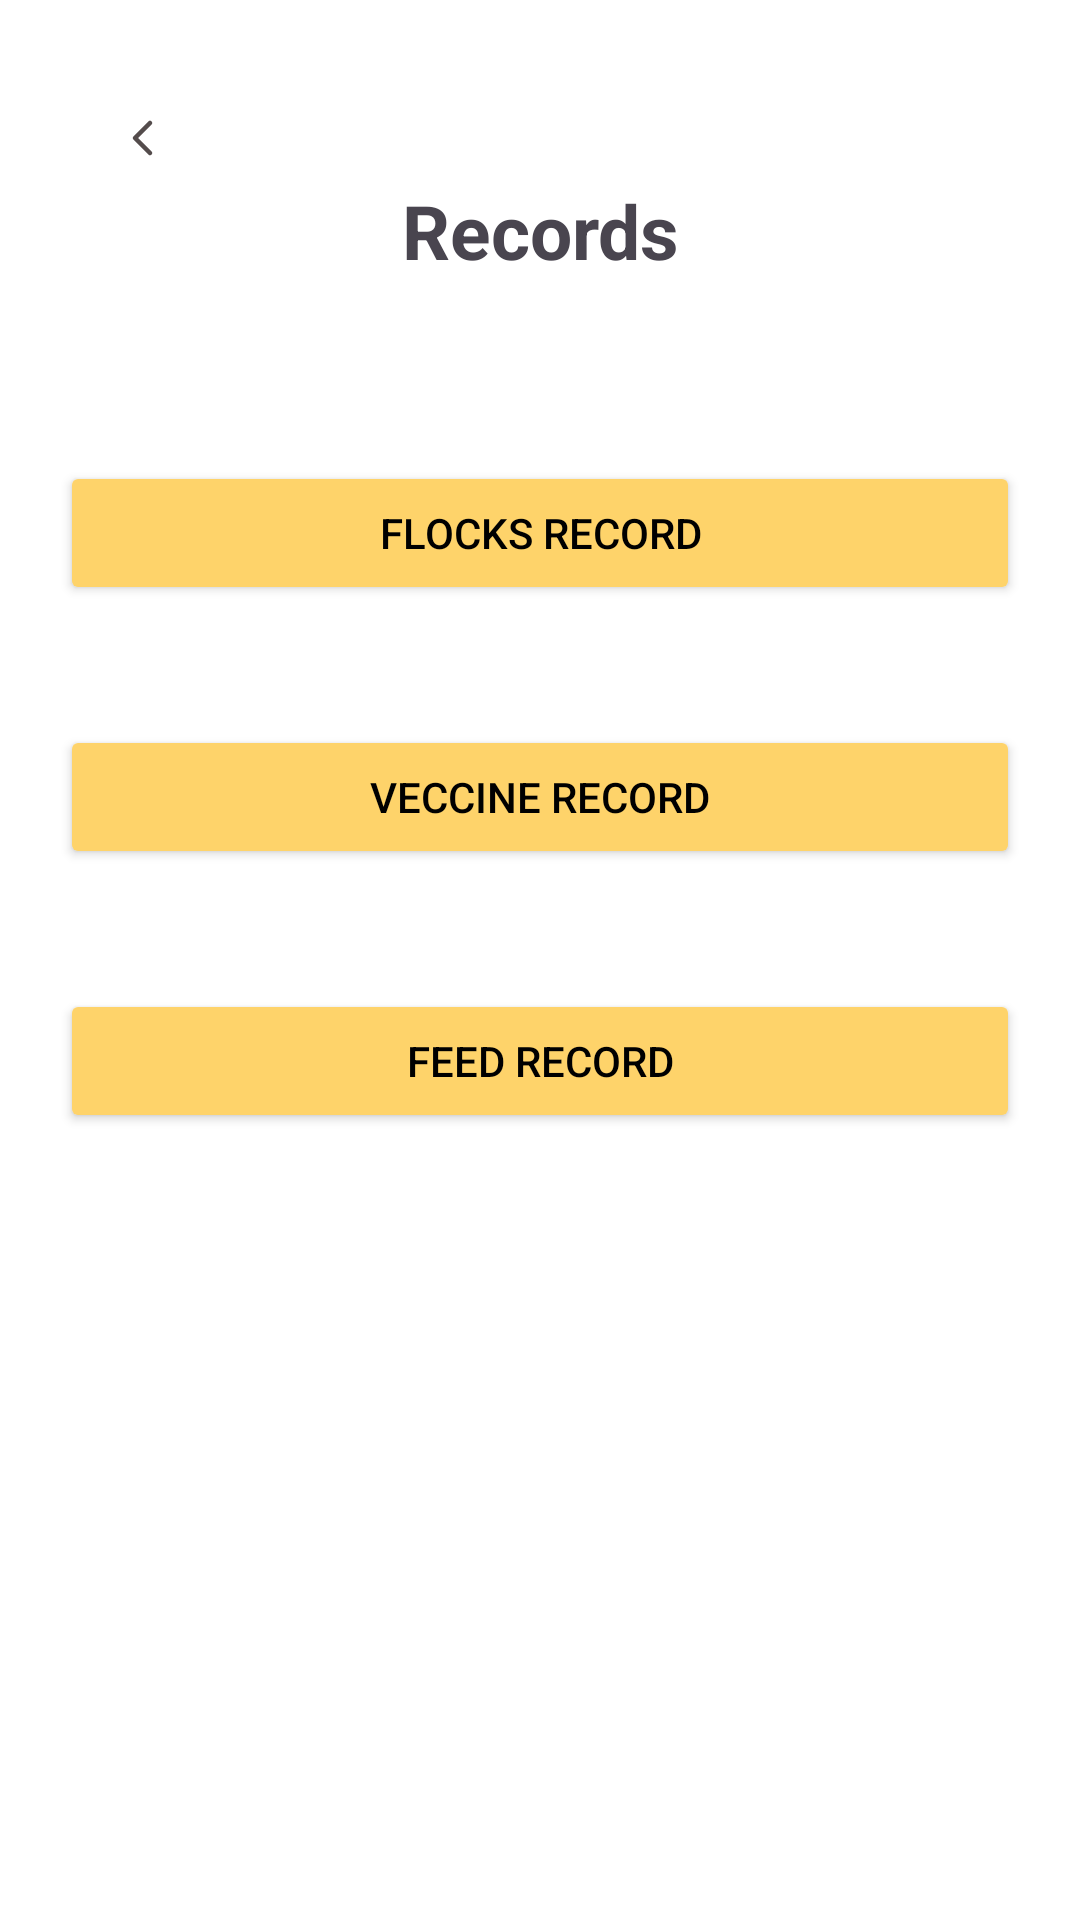

Icons on this 1080 x 1920 Android screen, each with its box as (x1, y1, x2, y2):
leftdirect: (133, 120, 152, 156)
